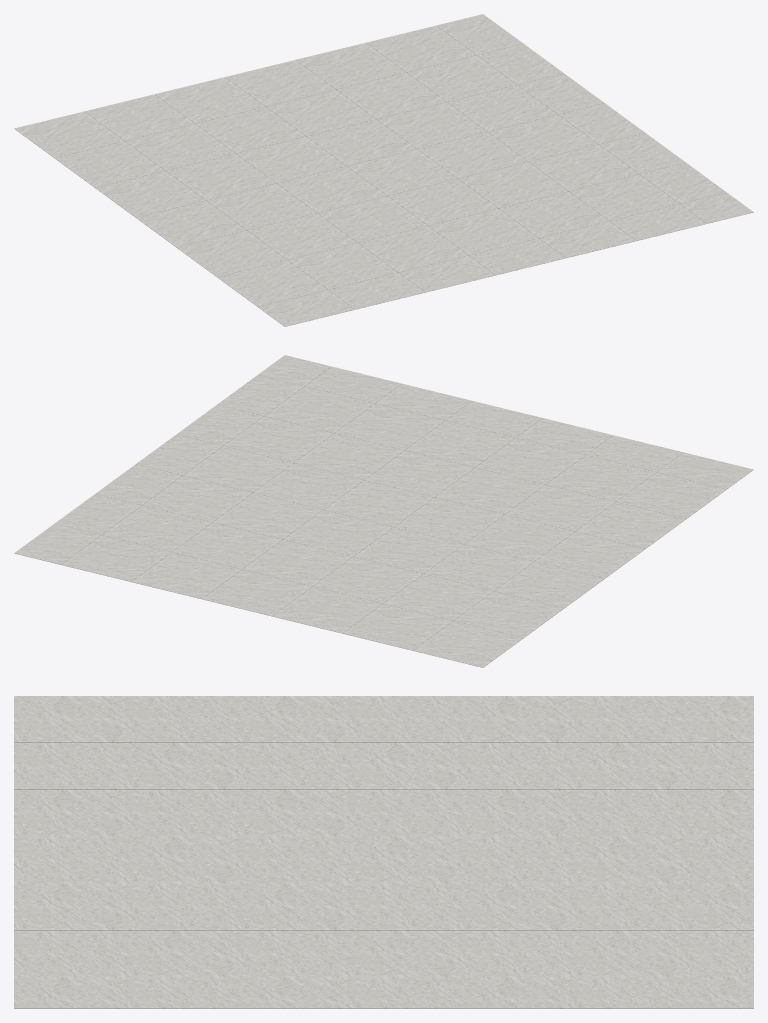
The model's file is silven-120x120.glb.
3 renders of one model, top to bottom at view 1: azimuth 30°, elevation 25°; view 2: azimuth 150°, elevation 25°; view 3: azimuth 270°, elevation 25°, orthographic. The views are drawn at different scales.
Visible parts, largest first — view 1: Silven; view 2: Silven; view 3: Silven.
Part boxes in pixels (x1=…): Silven: x1=14, y1=14, x2=753, y2=326; Silven: x1=14, y1=355, x2=753, y2=667; Silven: x1=14, y1=696, x2=753, y2=1008.
Size of the model in its own units: 8 by 0.003 by 8.
2 materials, 1 textured.
